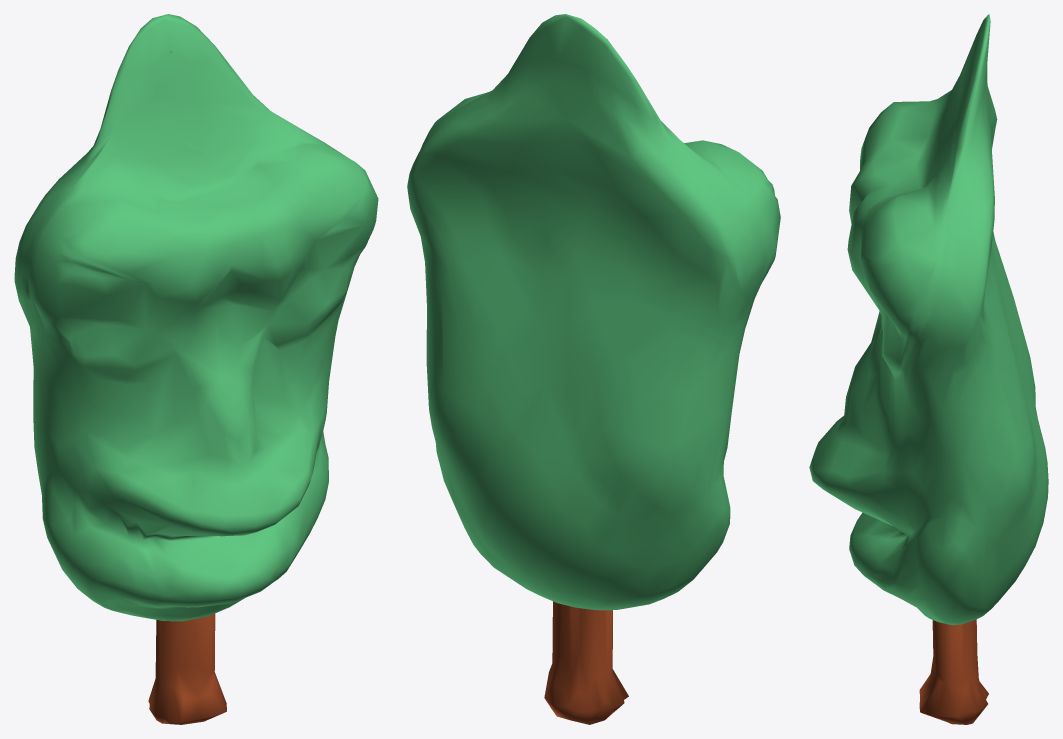
The model's file is arbre-face1.glb.
3 renders of one model, left to right at view 1: azimuth 30°, elevation 25°; view 2: azimuth 150°, elevation 25°; view 3: azimuth 270°, elevation 25°, orthographic. The views are drawn at different scales.
Parts seen in each view (by area): view 1: Sphere; view 2: Sphere; view 3: Sphere.
Part boxes in pixels (bbox=[...]): Sphere: bbox=[14, 14, 378, 724]; Sphere: bbox=[407, 14, 780, 724]; Sphere: bbox=[809, 14, 1048, 724].
Bounding box in the file's own units: 1.13 × 2.23 × 0.6952.
